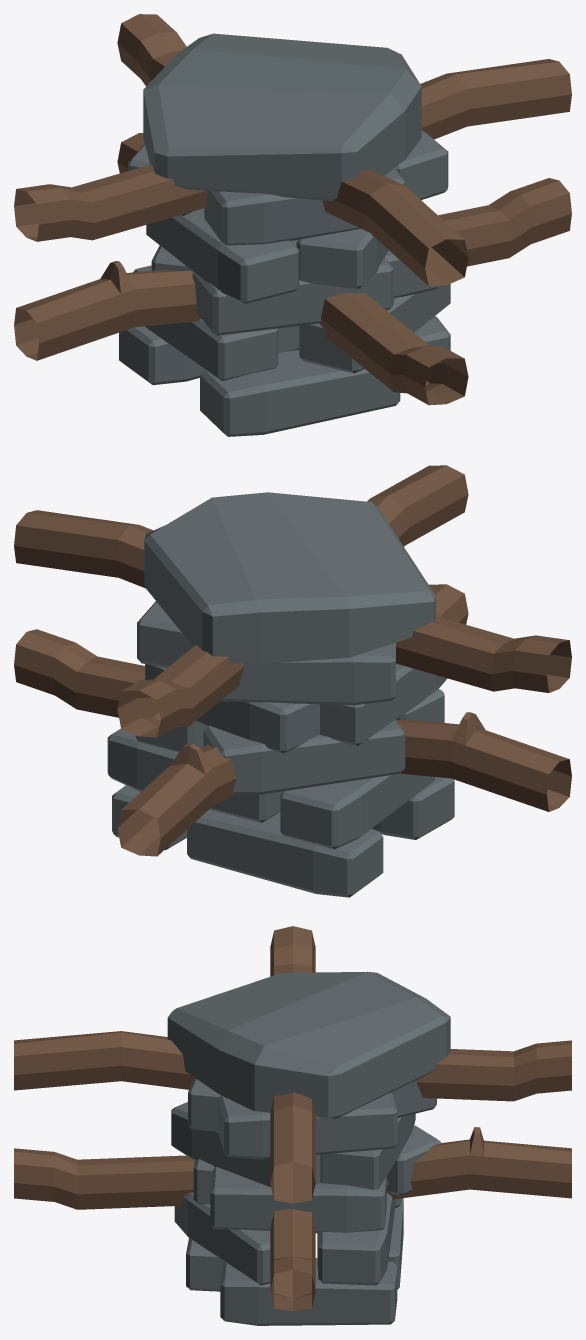
The model's file is modular Fence.fbx.
The picture shows the model from 3 angles, top to bottom: view 1: azimuth 30°, elevation 25°; view 2: azimuth 150°, elevation 25°; view 3: azimuth 270°, elevation 25°; orthographic projection. The views are drawn at different scales.
Visible parts, largest first — view 1: Cube.014, Cube.015, Cube.013, Cube.004, Cube.003, Cube.011, Cube.012, Cube.009, Cube.010; view 2: Cube.014, Cube.015, Cube.013, Cube.010, Cube.011, Cube.009, Cube.012, Cube.003, Cube.004; view 3: Cube.014, Cube.004, Cube.003, Cube.010, Cube.009, Cube.011, Cube.012, Cube.013.
Part boxes in pixels (<box>): Cube.014: <box>119,33,450,436</box>; Cube.015: <box>14,261,200,360</box>; Cube.013: <box>14,164,207,241</box>; Cube.004: <box>320,292,468,405</box>; Cube.003: <box>322,170,468,286</box>; Cube.011: <box>420,59,571,139</box>; Cube.012: <box>438,178,571,266</box>; Cube.009: <box>117,14,186,86</box>; Cube.010: <box>117,133,144,173</box>; Cube.014: <box>107,492,454,897</box>; Cube.015: <box>396,712,571,811</box>; Cube.013: <box>396,616,571,692</box>; Cube.010: <box>117,743,236,856</box>; Cube.011: <box>14,510,153,588</box>; Cube.009: <box>117,645,243,737</box>; Cube.012: <box>14,629,144,717</box>; Cube.003: <box>367,465,468,546</box>; Cube.004: <box>429,584,468,624</box>; Cube.014: <box>167,971,450,1325</box>; Cube.004: <box>14,1148,194,1209</box>; Cube.003: <box>14,1031,194,1090</box>; Cube.010: <box>386,1127,571,1199</box>; Cube.009: <box>416,1040,571,1101</box>; Cube.011: <box>270,1092,315,1203</box>; Cube.012: <box>270,1209,315,1311</box>; Cube.013: <box>270,926,315,976</box>.
Size of the model in its own units: 100 by 53.55 by 100.
